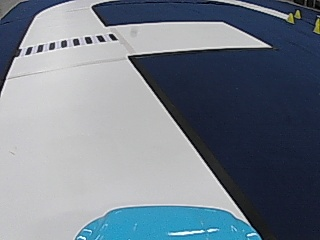CrossWalk: (21, 32, 119, 54)
